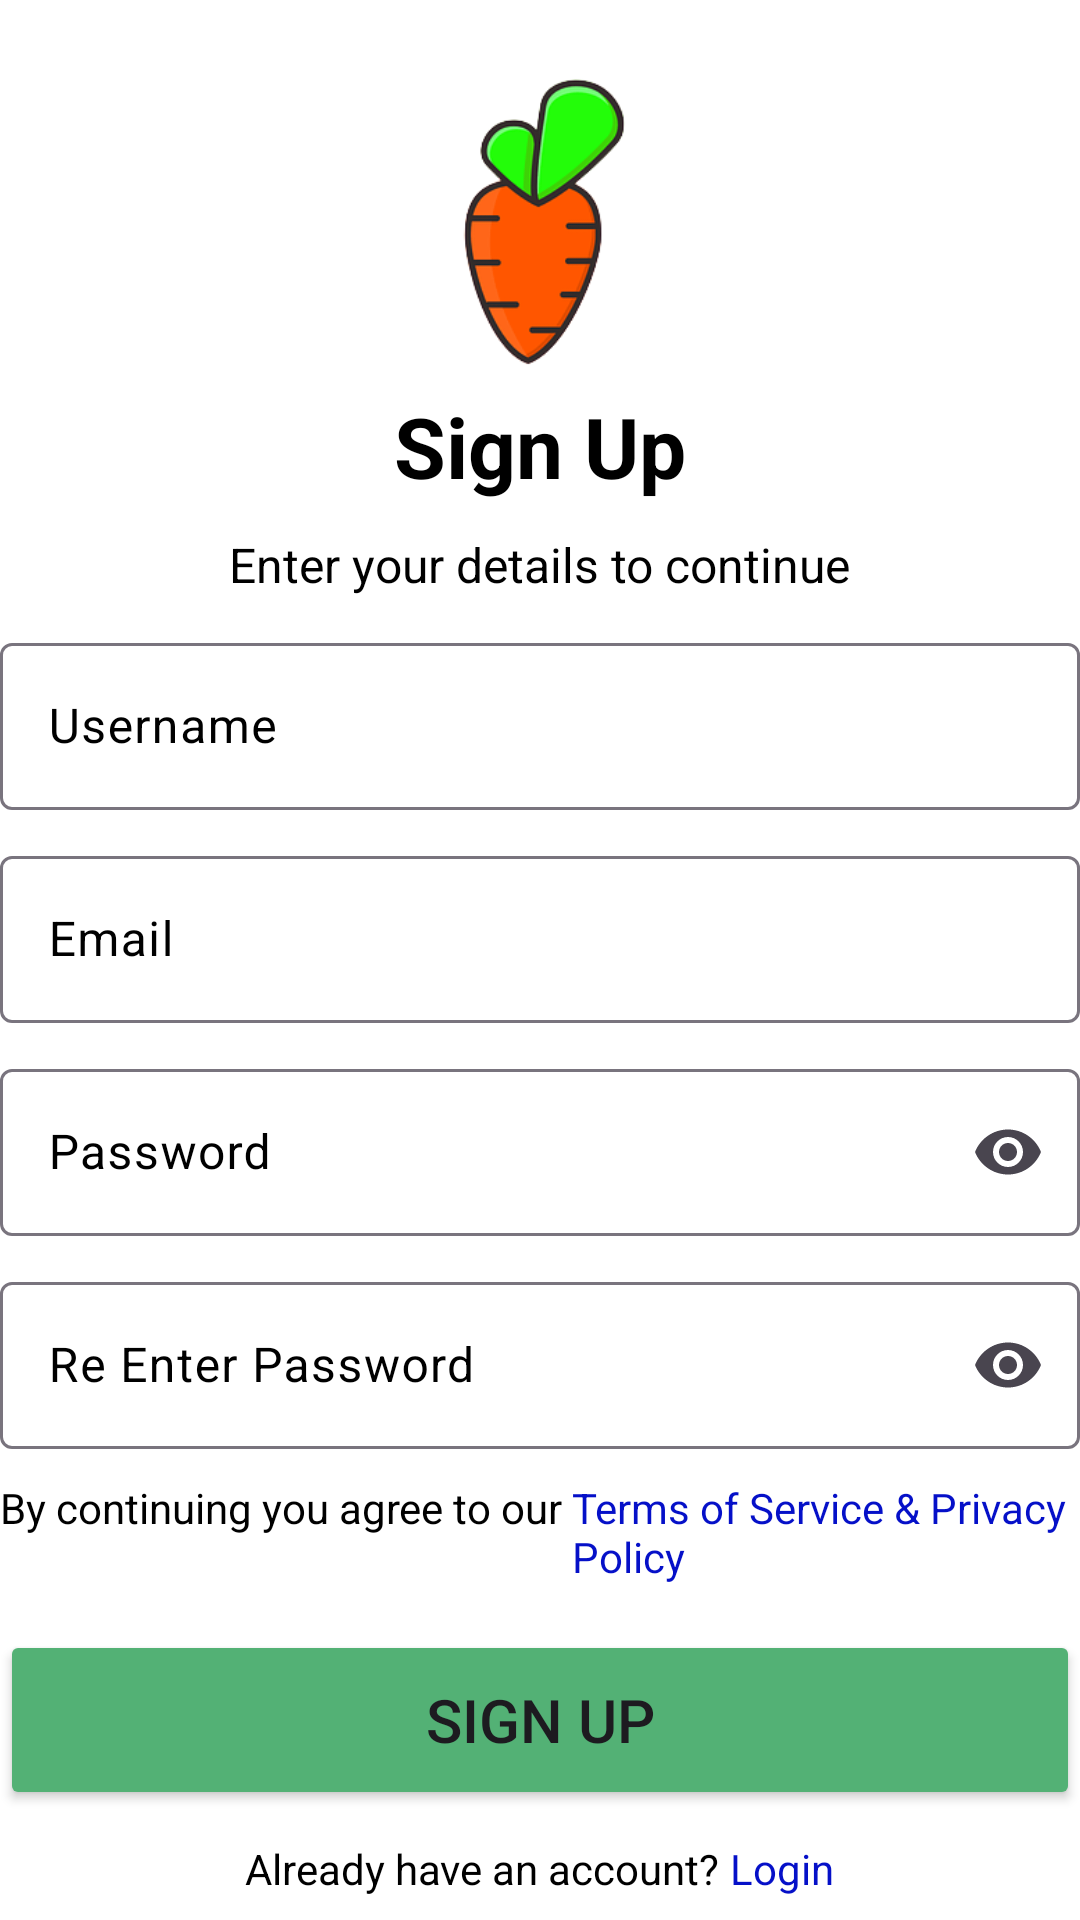

Icon bounding boxes for this 1080x1920 phone screenshot, format (x1, y1, x2, y2):
carrot: (464, 79, 624, 364)
